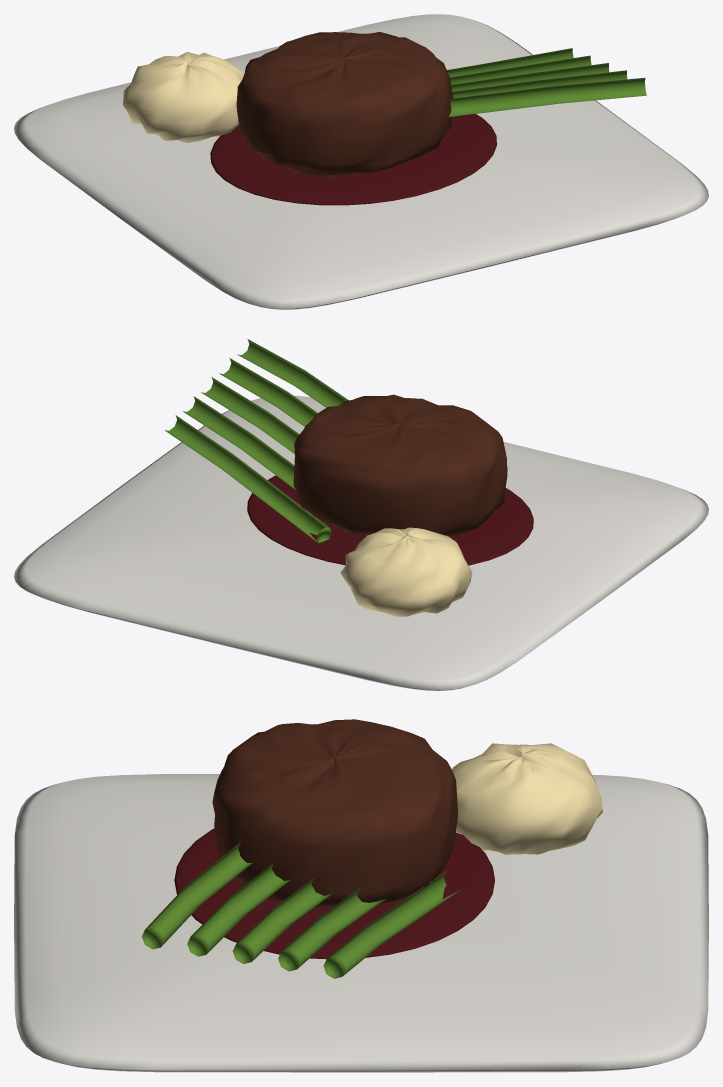
Rendered from file-mignon-ao-vinho.glb.
3 renders of one model, top to bottom at view 1: azimuth 30°, elevation 25°; view 2: azimuth 150°, elevation 25°; view 3: azimuth 270°, elevation 25°, orthographic. The views are drawn at different scales.
Parts seen in each view (by area): view 1: file-mignon-ao-vinho; view 2: file-mignon-ao-vinho; view 3: file-mignon-ao-vinho.
Part boxes in pixels (x1=…): file-mignon-ao-vinho: x1=14, y1=14, x2=708, y2=309; file-mignon-ao-vinho: x1=14, y1=339, x2=708, y2=690; file-mignon-ao-vinho: x1=14, y1=719, x2=708, y2=1072.
Size of the model in its own units: 0.26 by 0.0735 by 0.26.
